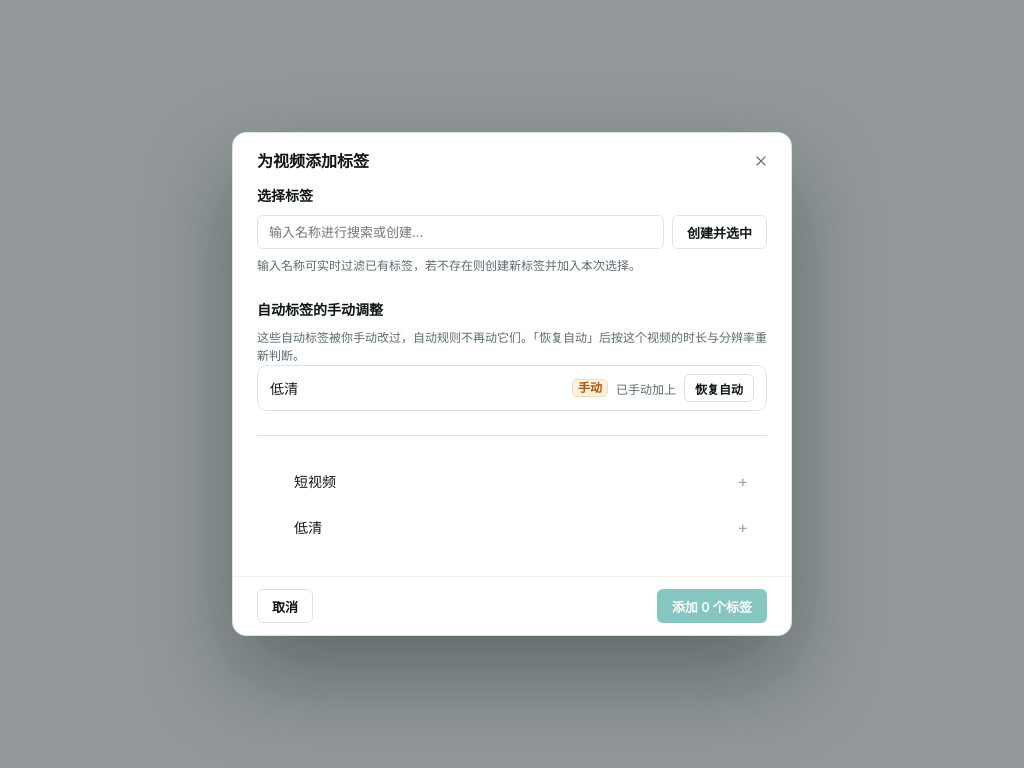
Test: META-13 自动标签的手动覆盖 › META-13 keeps the override when restoring fails and hides the section in batch mode
Click the button with test id "automatic-override-restore-low_resolution".
click(719, 388)  # box x1=684 y1=374 x2=754 y2=402
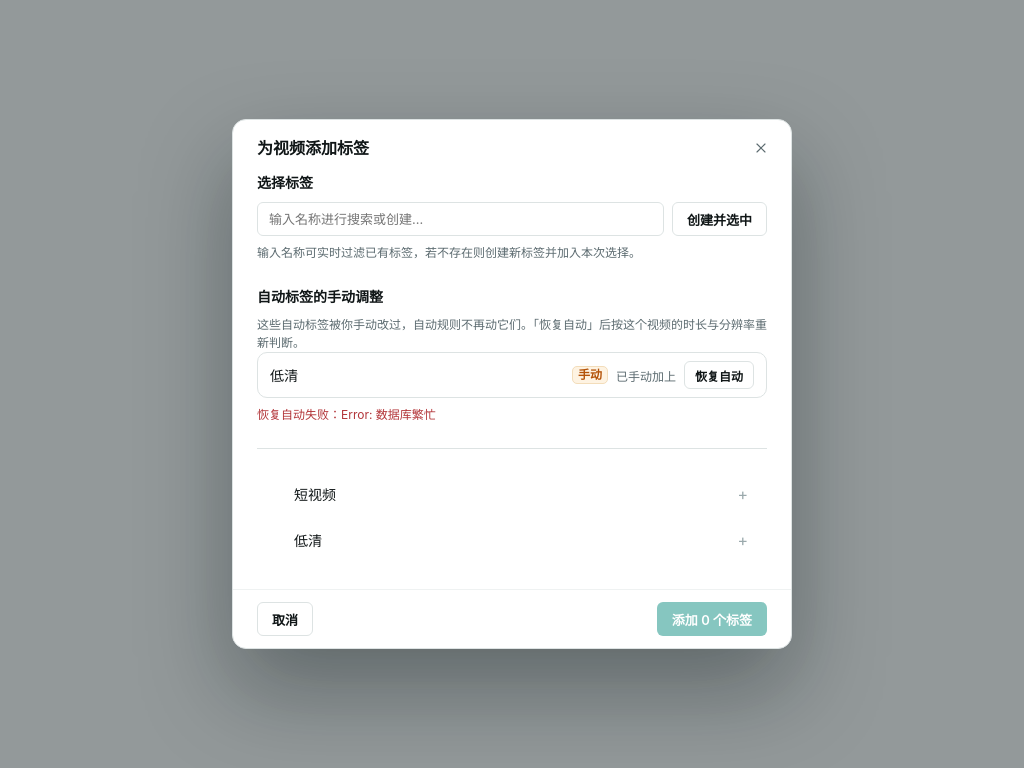
Expected: the element with test id "automatic-override-low_resolution" is shown, x1=257 y1=352 x2=767 y2=398
Expected: the message with class "automatic-override-error" shows "恢复自动失败", x1=257 y1=407 x2=436 y2=422
